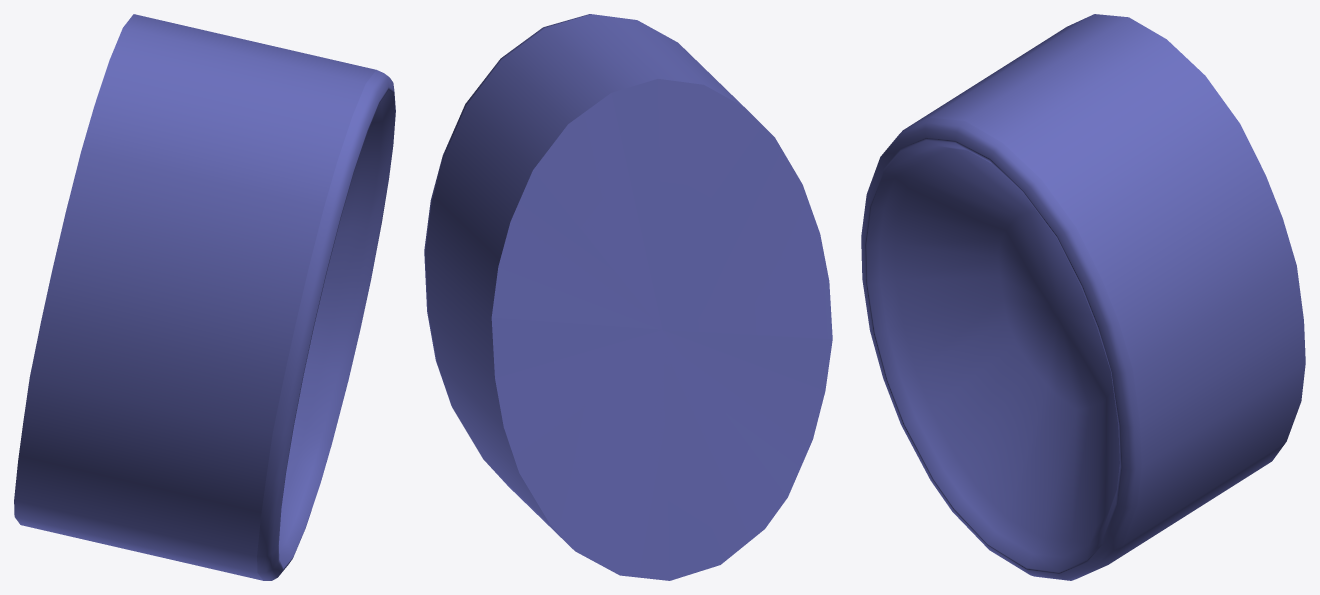
File: TR3_8shapes_Oval_Classic_Metal.001 3.glb
3 renders of one model, left to right at view 1: azimuth 30°, elevation 25°; view 2: azimuth 150°, elevation 25°; view 3: azimuth 270°, elevation 25°, orthographic. The views are drawn at different scales.
Visible parts, largest first — view 1: TR3_8shapes_Oval_Classic_Metal.001; view 2: TR3_8shapes_Oval_Classic_Metal.001; view 3: TR3_8shapes_Oval_Classic_Metal.001.
Part boxes in pixels (x1,y1,x2,y2): TR3_8shapes_Oval_Classic_Metal.001: (14,14,395,580); TR3_8shapes_Oval_Classic_Metal.001: (424,14,832,580); TR3_8shapes_Oval_Classic_Metal.001: (861,14,1305,580).
Size of the model in its own units: 0.5574 by 0.7168 by 0.5688.
